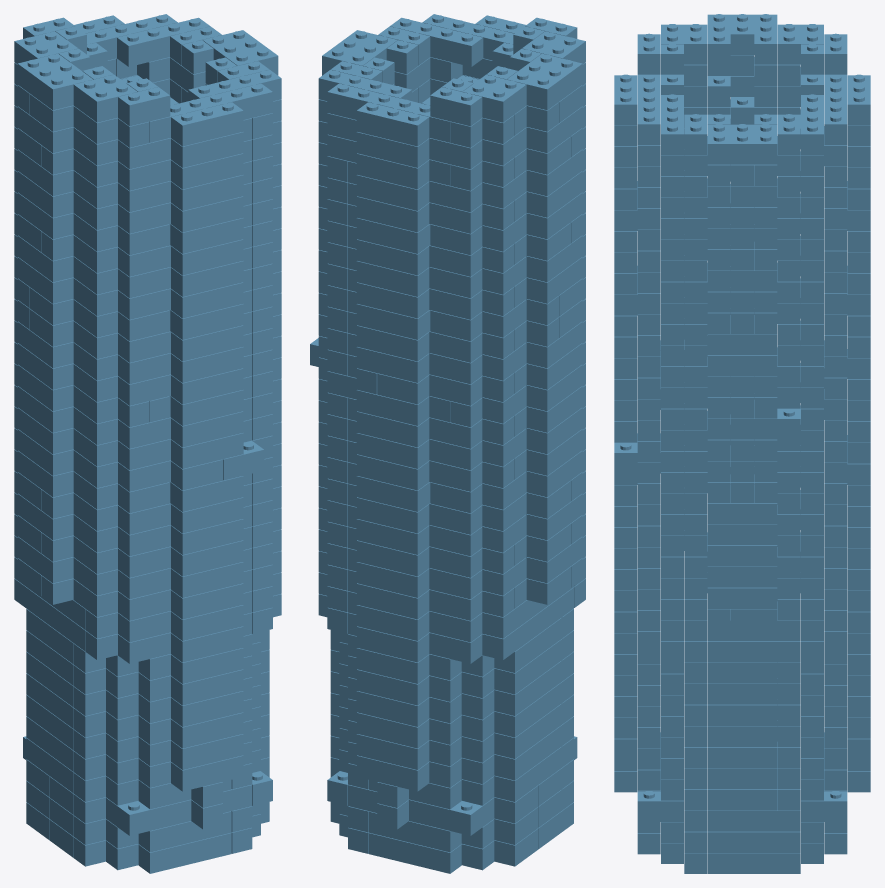
The model's file is 010_basket_L5.glb.
3 renders of one model, left to right at view 1: azimuth 30°, elevation 25°; view 2: azimuth 150°, elevation 25°; view 3: azimuth 270°, elevation 25°, orthographic.
Bounding box in the file's own units: 10.98 × 36.13 × 10.98.
